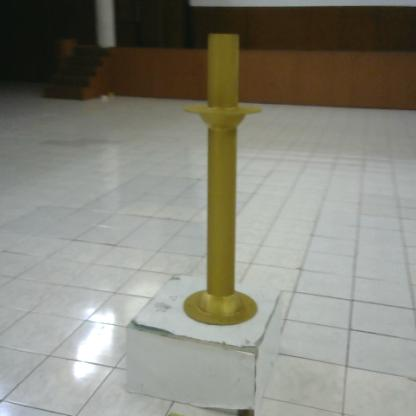pole: (178, 26, 266, 338)
